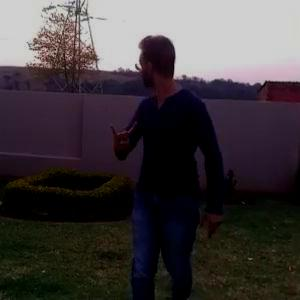takeoff-hand: (106, 114, 142, 158)
